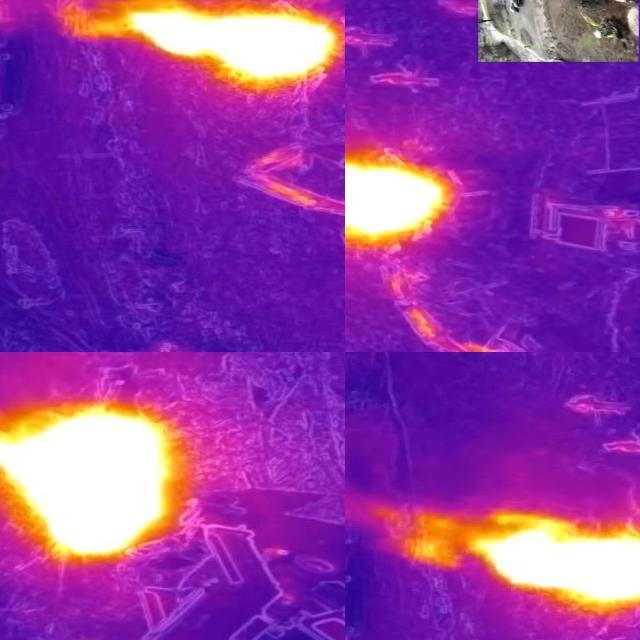fire: (1, 400, 193, 564), (123, 1, 346, 90), (467, 514, 640, 614), (346, 150, 450, 236)
